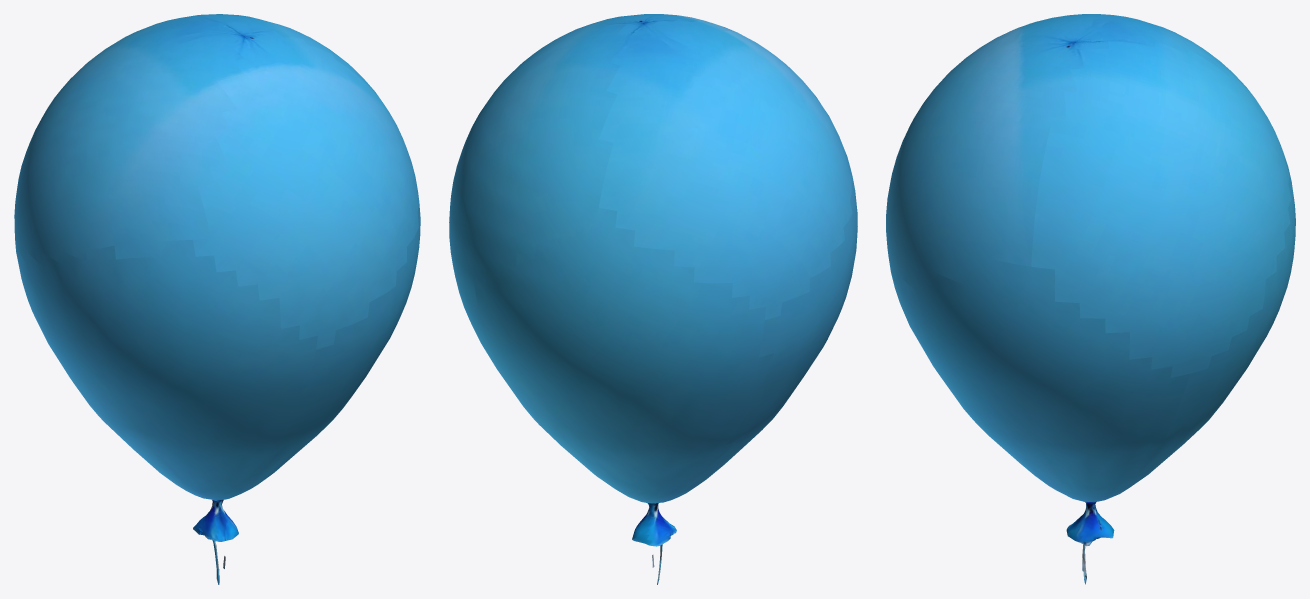
Rendered from balon.glb.
3 views of the same model, side by side, from view 1: azimuth 30°, elevation 25°; view 2: azimuth 150°, elevation 25°; view 3: azimuth 270°, elevation 25° (orthographic).
Visible parts, largest first — view 1: Mesh0; view 2: Mesh0; view 3: Mesh0.
Boxes of the visible parts, x1,y1,x2,y2 form: Mesh0: (14,14,420,584); Mesh0: (449,14,857,584); Mesh0: (886,14,1295,584).
Size of the model in its own units: 1.28 by 1.92 by 1.29.
1 material, 1 textured.
